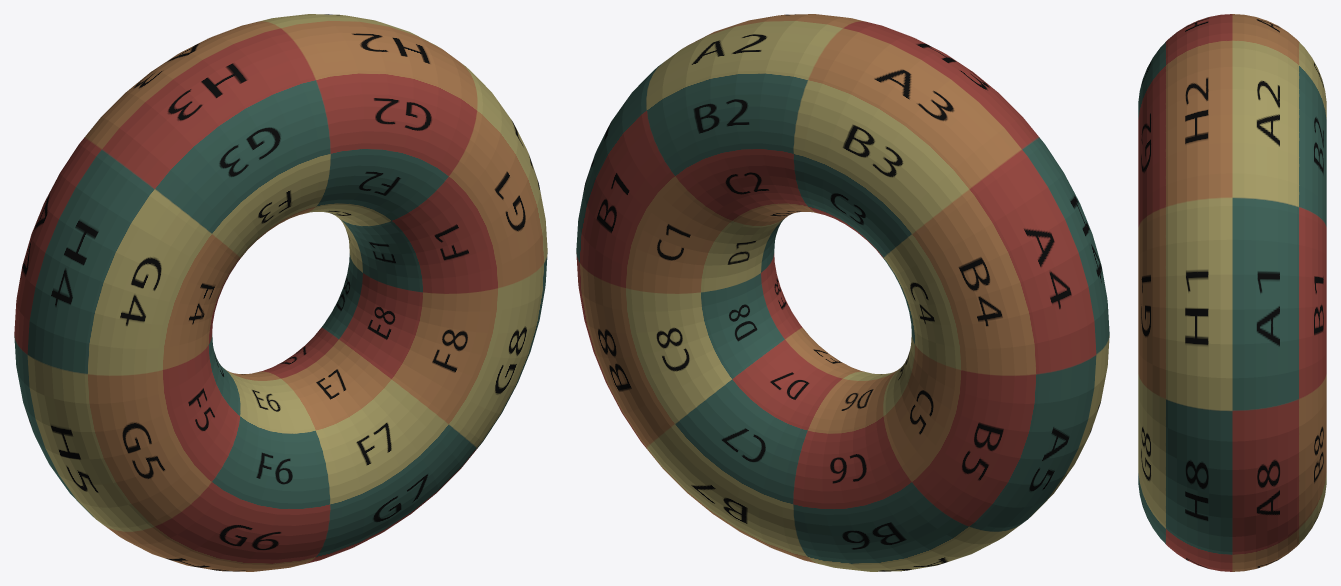
Rendered from texture_torus_R12_r27.glb.
The picture shows the model from 3 angles, left to right: view 1: azimuth 30°, elevation 25°; view 2: azimuth 150°, elevation 25°; view 3: azimuth 270°, elevation 25°; orthographic projection. The views are drawn at different scales.
Parts seen in each view (by area): view 1: world; view 2: world; view 3: world.
Part boxes in pixels (x1,y1,x2,y2): world: [14, 14, 547, 571]; world: [576, 14, 1109, 571]; world: [1138, 14, 1326, 571].
Bounding box in the file's own units: 27.2 × 27.15 × 9.18.
1 material, 1 textured.
